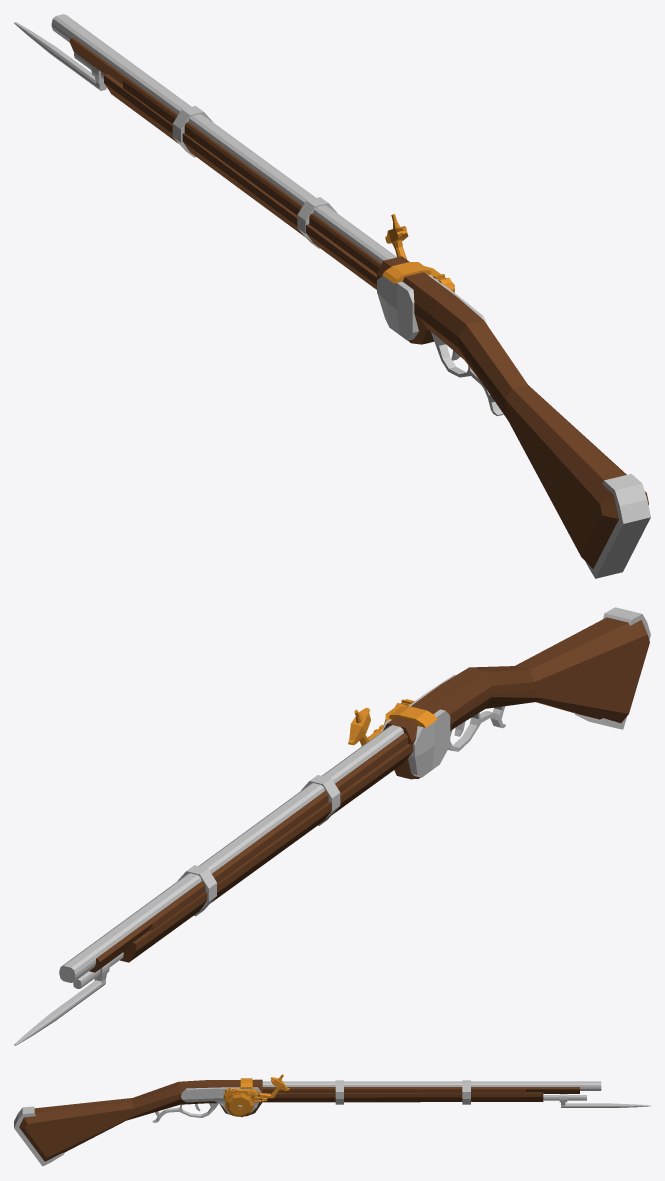
File: Musket.fbx
3 views of the same model, one above another, from view 1: azimuth 30°, elevation 25°; view 2: azimuth 150°, elevation 25°; view 3: azimuth 270°, elevation 25° (orthographic). The views are drawn at different scales.
Parts seen in each view (by area): view 1: Musket; view 2: Musket; view 3: Musket.
Part boxes in pixels (left/top/right/bottom): Musket: left=14, top=14, right=650, bottom=578; Musket: left=14, top=607, right=650, bottom=1045; Musket: left=14, top=1074, right=650, bottom=1166.
Bounding box in the file's own units: 20.95 × 429 × 69.68.
